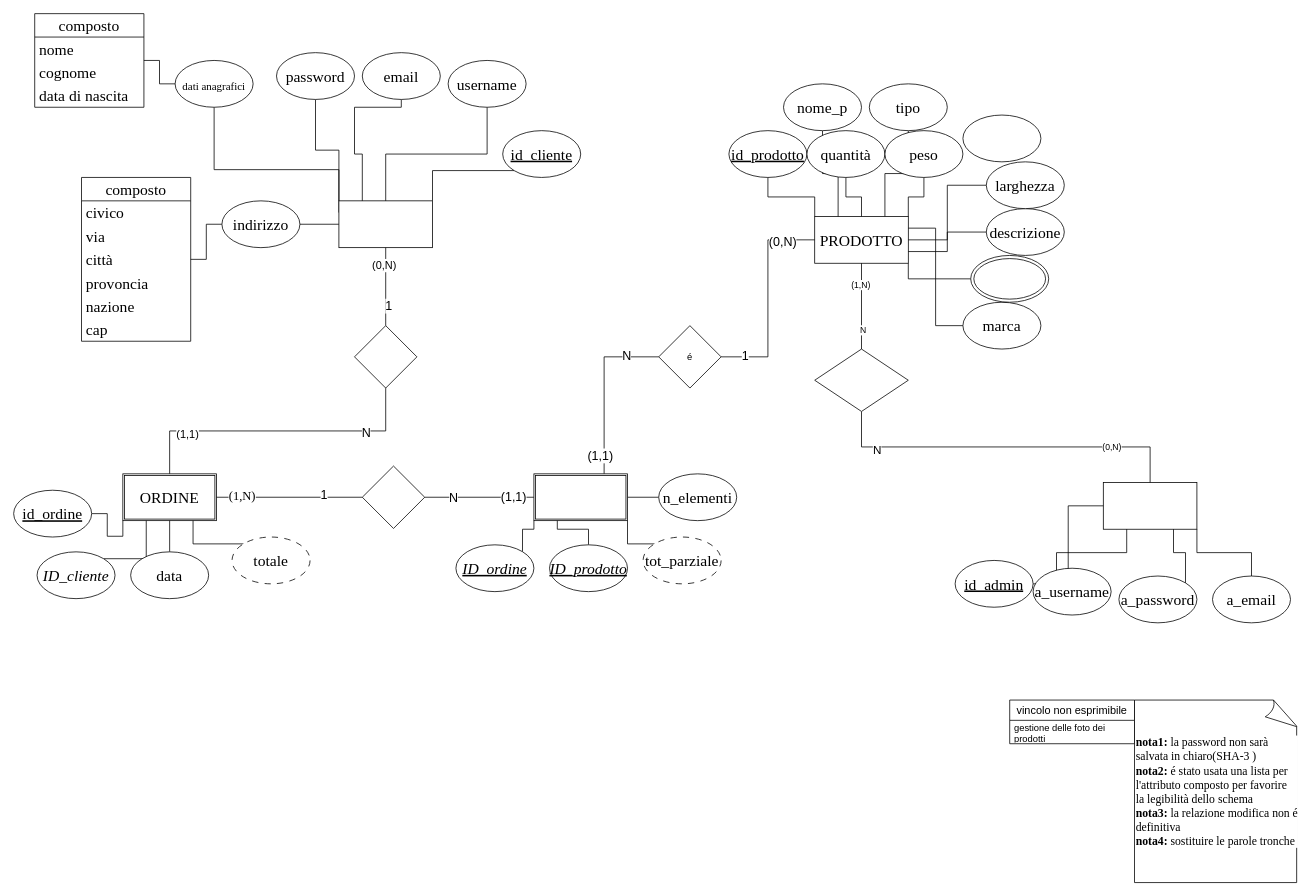
This 1312x896 diagram has some shape labels left out. Here are the shapes that lost their labels. From the top down, the centre of each, then its label:
point (1001, 138): diametro
point (385, 224): CLIENTE
point (1009, 278): foto
point (385, 356): fa
point (861, 379): modifica
point (393, 496): contiene
point (580, 497): ELEMENTI
point (1150, 505): ADMIN
